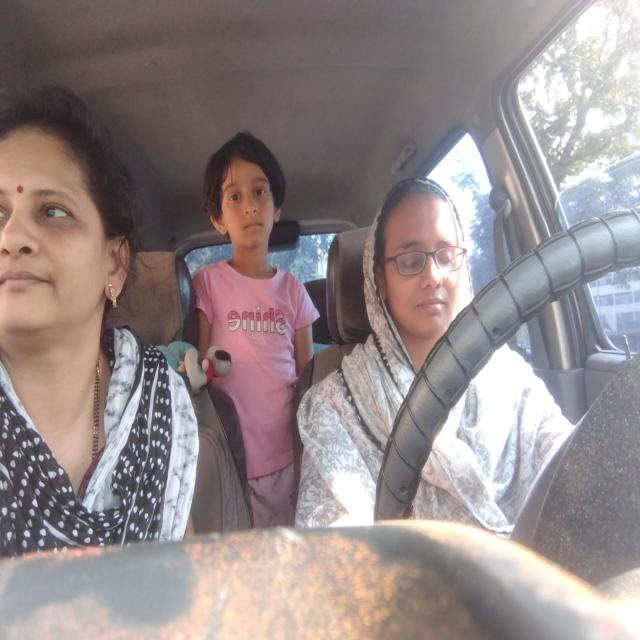drowsy: (358, 156, 497, 362)
person: (0, 71, 153, 368), (202, 127, 304, 268)
